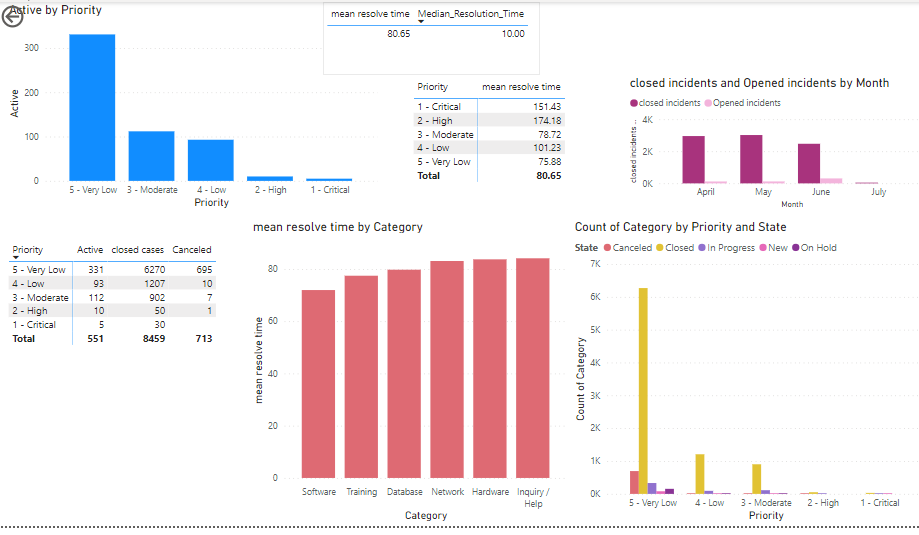

The dashboard page shown, as its layout file describes it:
{"tool":"powerbi","page":{"name":"Page 1","canvas":[1280,720],"ordinal":0},"visuals":[{"type":"clusteredColumnChart","fields":{"Category":["Page 1.Priority"],"Y":["Page 1.Active"]},"box":[10,0,517.1,288.6],"z":0},{"type":"pivotTable","fields":{"Rows":["Page 1.Priority"],"Values":["Page 1.Active","Page 1.closed cases","Page 1.Canceled"]},"box":[10.3,324.8,335.1,394.4],"z":1000},{"type":"tableEx","fields":{"Values":["Page 1.mean resolve time","Page 1.Median_Resolution_Time"]},"box":[446.8,0,298.3,100.4],"z":1001},{"type":"clusteredColumnChart","fields":{"Category":["Page 1.Category"],"Y":["Page 1.mean resolve time"]},"box":[345.4,299,443.4,420.2],"z":1002},{"type":"pivotTable","fields":{"Rows":["Page 1.Priority"],"Values":["Page 1.mean resolve time"]},"box":[566.4,100.4,298.3,188.4],"z":1003},{"type":"clusteredColumnChart","fields":{"Category":["Page 1.Priority"],"Series":["Page 1.State"],"Y":["CountNonNull(Page 1.Category)"]},"box":[787.8,298.3,492.2,420.7],"z":1004},{"type":"clusteredColumnChart","fields":{"Category":["Page 1.Opened.Variation.Date Hierarchy.Month"],"Y":["Page 1.closed incidents","Page 1.Opened incidents"]},"box":[864,100,416,188],"z":1005},{"type":"actionButton","box":[0,0,100,40],"z":1006}]}

Visuals, with their boxes on the page's 1280x720 design canvas (x1, y1, x2, y2). These are canvas units, not pixel positions in the 919x535 screenshot, which may show the page scaled, cropped or inside an application window:
clusteredColumnChart - Page 1.Priority x Page 1.Active: (10,0,527,289)
pivotTable - Page 1.Priority x Page 1.Active: (10,325,345,719)
tableEx - Page 1.mean resolve time x Page 1.Median_Resolution_Time: (447,0,745,100)
clusteredColumnChart - Page 1.Category x Page 1.mean resolve time: (345,299,789,719)
pivotTable - Page 1.Priority x Page 1.mean resolve time: (566,100,865,289)
clusteredColumnChart - Page 1.Priority x Page 1.State: (788,298,1280,719)
clusteredColumnChart - Page 1.Opened.Variation.Date Hierarchy.Month x Page 1.closed incidents: (864,100,1280,288)
actionButton: (0,0,100,40)
